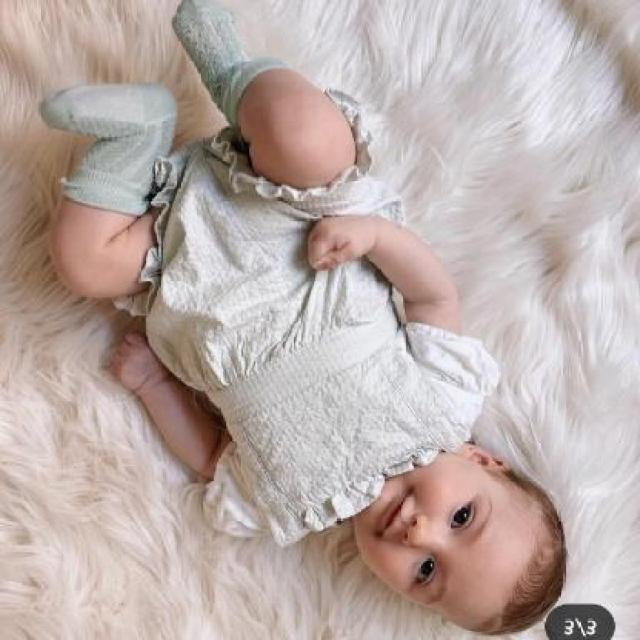baby: (34, 3, 563, 639)
